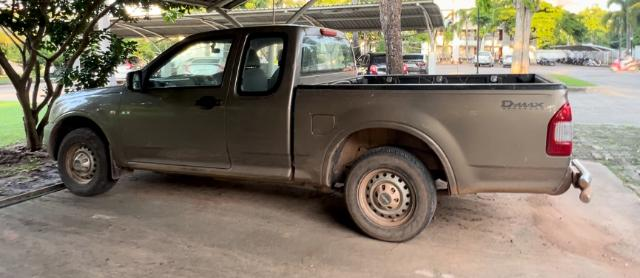pickup-truck: (39, 22, 595, 244)
